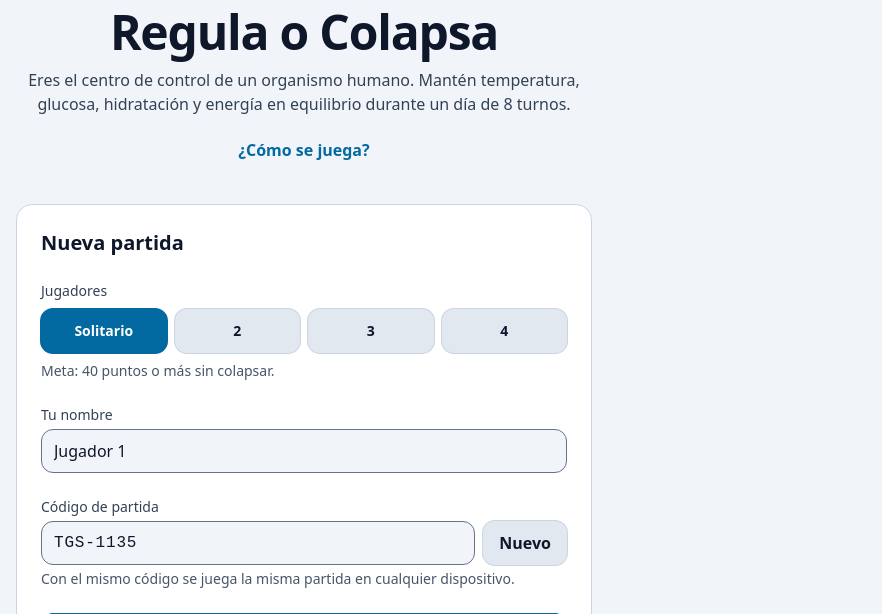
Scenario: InicioPage › muestra el error del código junto al botón de comenzar
This screenshot has width=882, height=614.
Replace the text in the field labelled "Código de partida" with "abc" at (258,543), box x1=41 y1=521 x2=475 y2=565
(page scrolled)
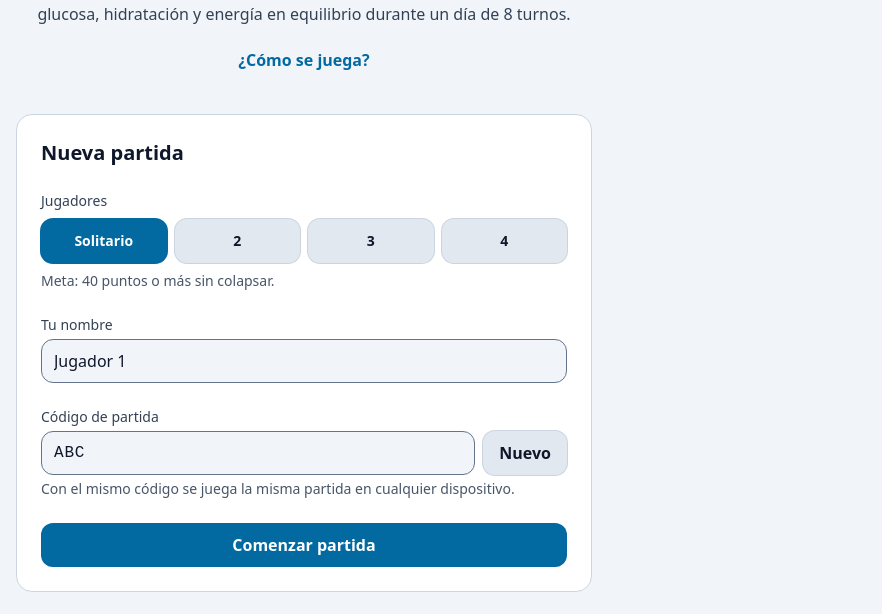
Click the button "Comenzar partida" at (304,545), box x1=41 y1=523 x2=567 y2=567
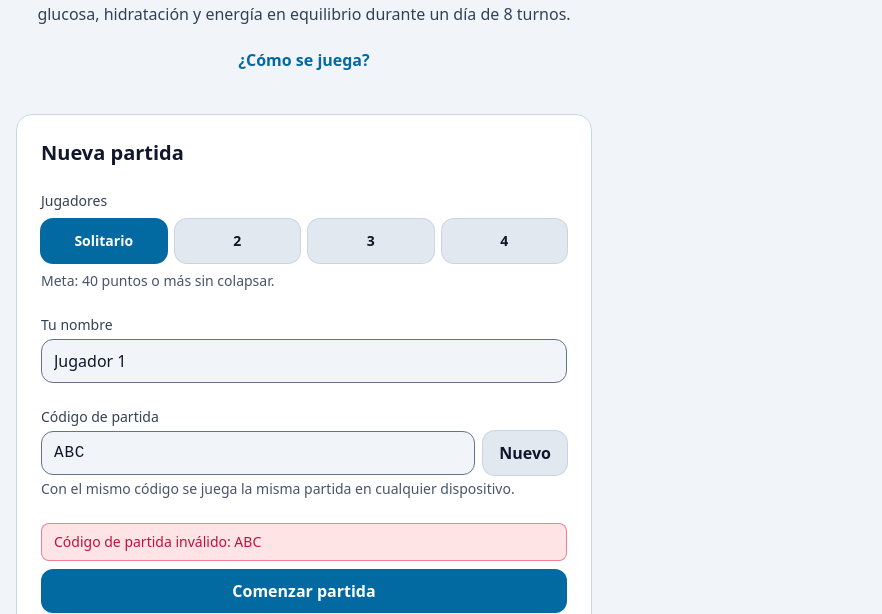
Expected: the message shows "Código de partida inválido", x1=54 y1=532 x2=261 y2=551
